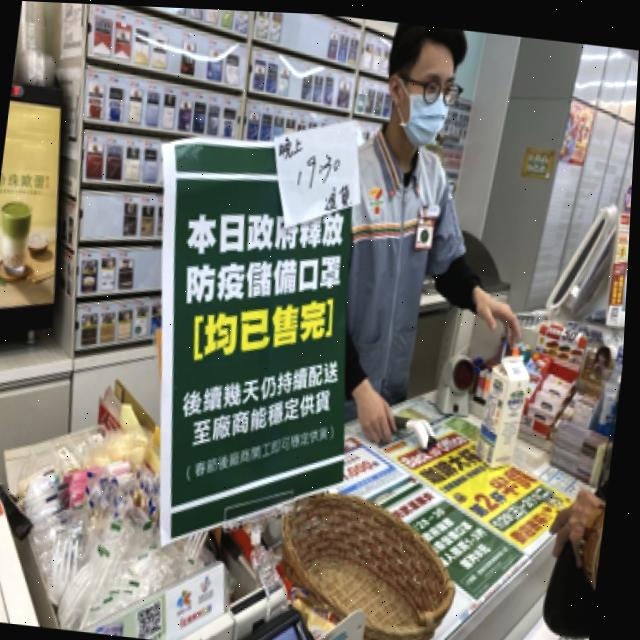Mask: (384, 71, 454, 147)
